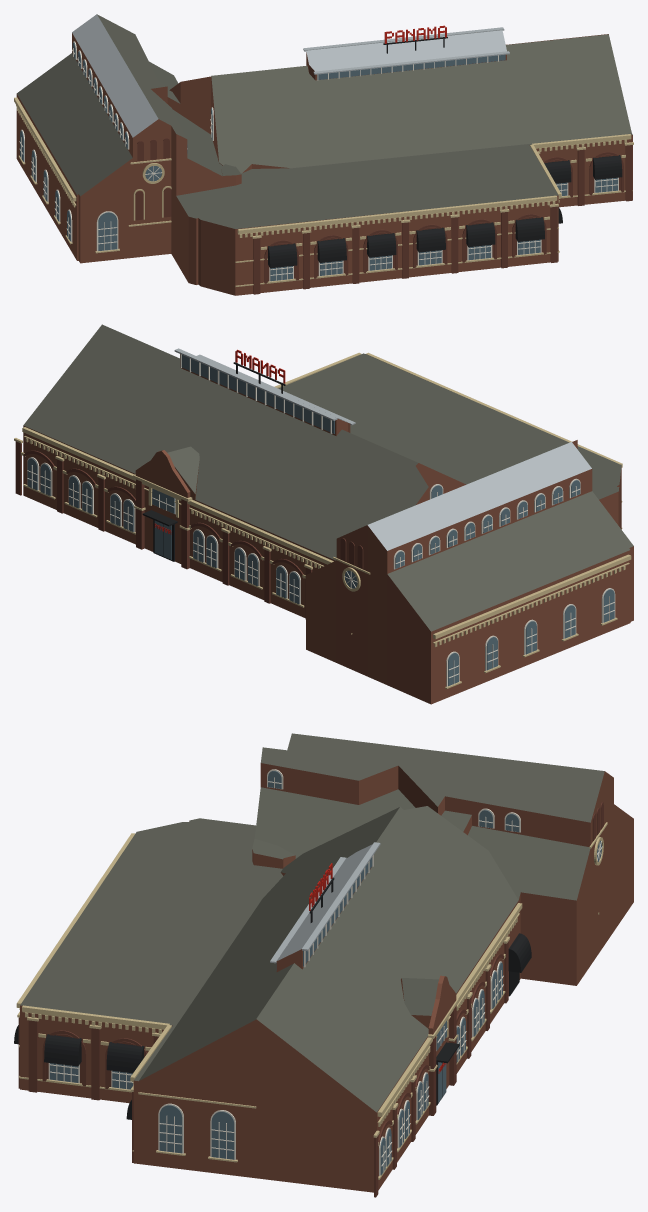
The model's file is club-panama.glb.
The picture shows the model from 3 angles, top to bottom: view 1: azimuth 30°, elevation 25°; view 2: azimuth 150°, elevation 25°; view 3: azimuth 270°, elevation 25°; orthographic projection. The views are drawn at different scales.
Parts seen in each view (by area): view 1: club-panama; view 2: club-panama; view 3: club-panama.
Boxes of the visible parts, <box> form: club-panama: <box>14,14,633,295</box>; club-panama: <box>14,324,633,704</box>; club-panama: <box>14,733,633,1197</box>.
Bounding box in the file's own units: 51.07 × 13.84 × 40.
